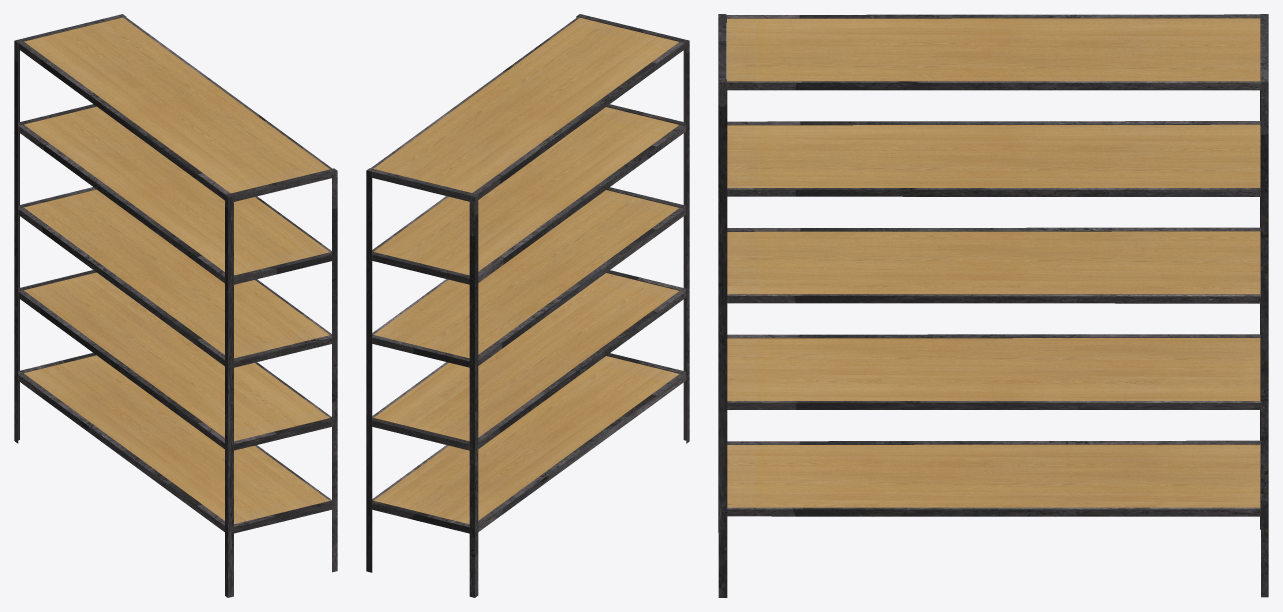
File: shelf(v 1.0).fbx
The picture shows the model from 3 angles, left to right: view 1: azimuth 30°, elevation 25°; view 2: azimuth 150°, elevation 25°; view 3: azimuth 270°, elevation 25°; orthographic projection. The views are drawn at different scales.
Visible parts, largest first — view 1: shelfs, body; view 2: shelfs, body; view 3: shelfs, body.
Part boxes in pixels (x1,y1,x2,y2): shelfs: (24,17,329,523); body: (14,14,337,597); shelfs: (373,17,679,524); body: (366,14,689,597); shelfs: (727,18,1260,507); body: (718,14,1268,597).
Size of the model in its own units: 0.6279 by 2.12 by 2.19.
